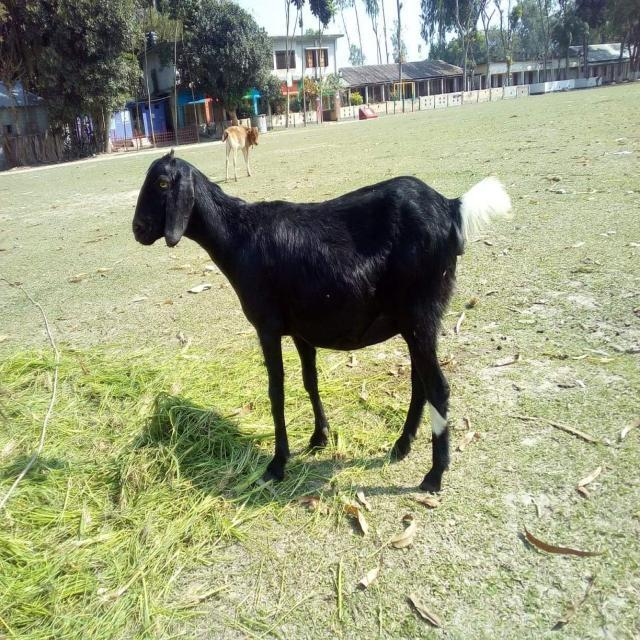Goat: (132, 147, 512, 494), (222, 123, 260, 182)
